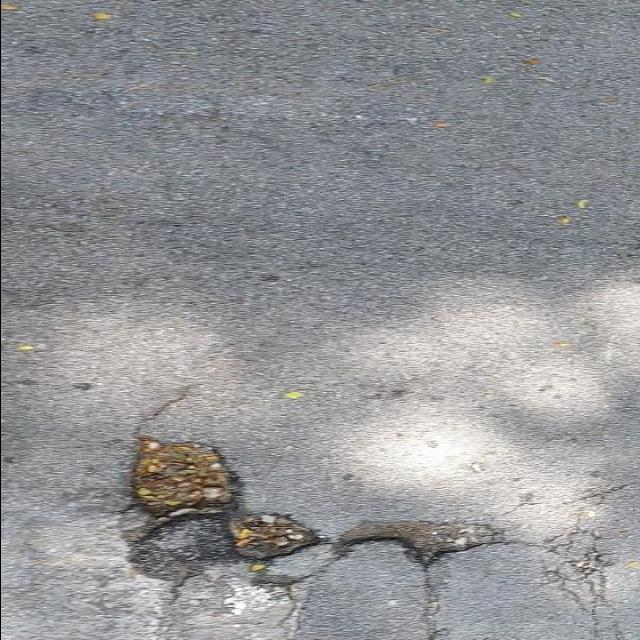potholes: (0, 370, 632, 640)
